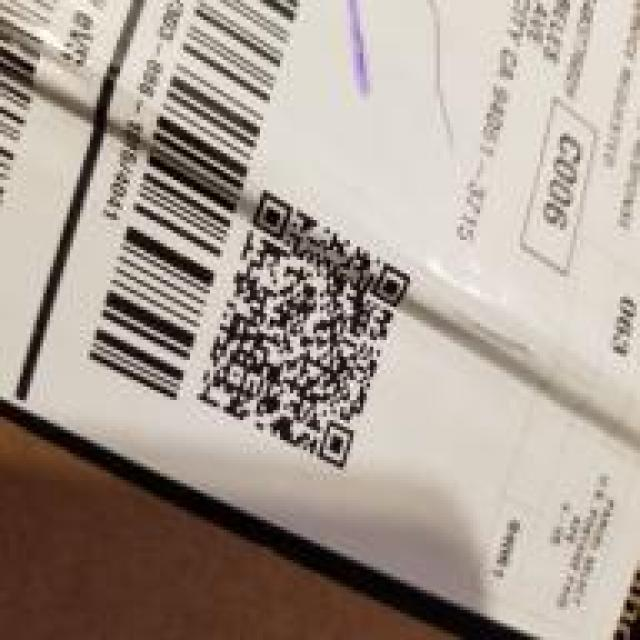qr_code: (196, 189, 412, 470)
